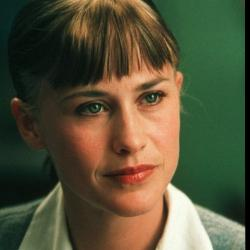face: (6, 2, 203, 221)
